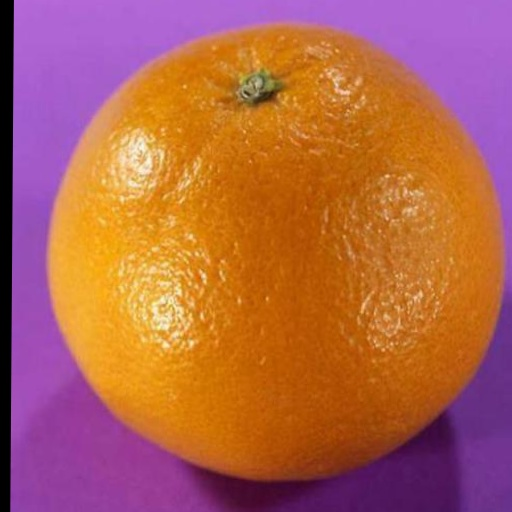fruit: (49, 25, 502, 479)
